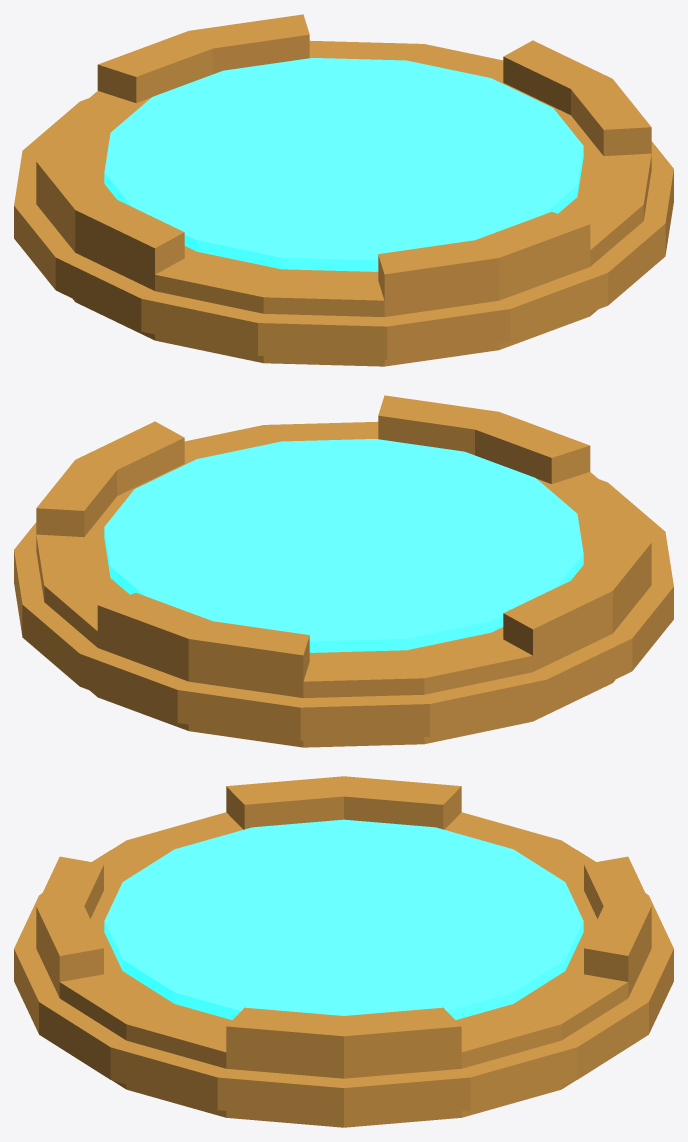
The model's file is Chek point.fbx.
3 renders of one model, top to bottom at view 1: azimuth 30°, elevation 25°; view 2: azimuth 150°, elevation 25°; view 3: azimuth 270°, elevation 25°, orthographic.
Visible parts, largest first — view 1: Cylinder, Cylinder_1; view 2: Cylinder, Cylinder_1; view 3: Cylinder, Cylinder_1.
Part boxes in pixels (x1,y1,x2,y2): Cylinder: (14,14,673,366); Cylinder_1: (104,58,583,271); Cylinder: (14,395,673,747); Cylinder_1: (104,439,583,652); Cylinder: (14,776,673,1127); Cylinder_1: (104,819,583,1019).
Size of the model in its own units: 161 by 24.58 by 161.
